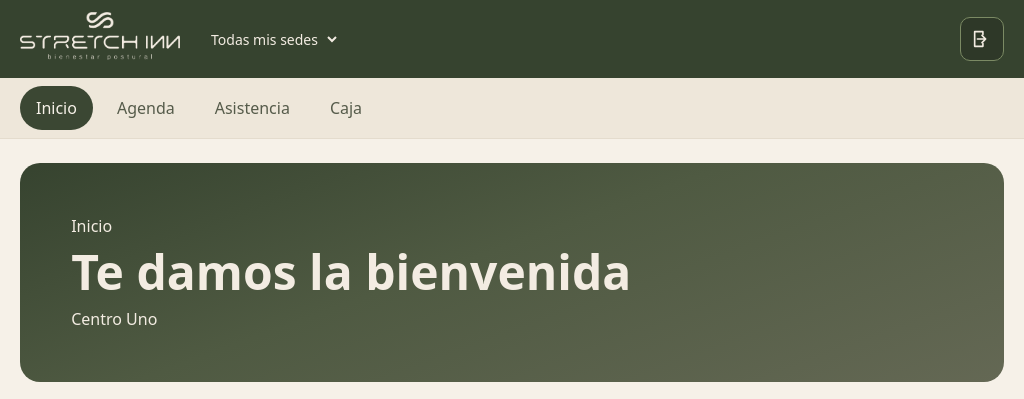
Test: pide una sede al abrir Asistencia desde todas las sedes
The width and height of the screenshot is (1024, 399).
Click the link "Asistencia" at (252, 108), box [215,97,290,119]
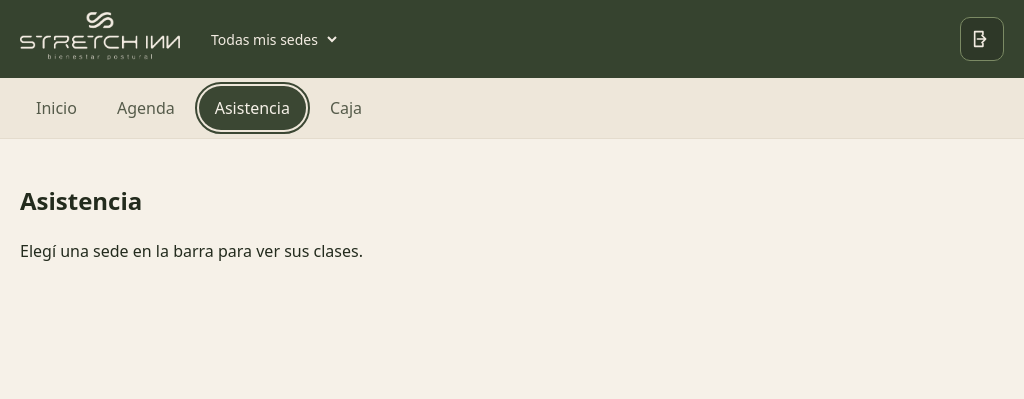
Check: the text "Elegí una sede en la barra para ver sus clases." is shown, box [20,240,363,262]
